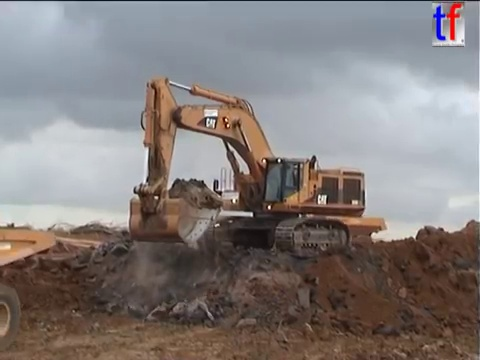excavator: (125, 71, 369, 260)
truck: (223, 191, 388, 255), (1, 225, 58, 353)
